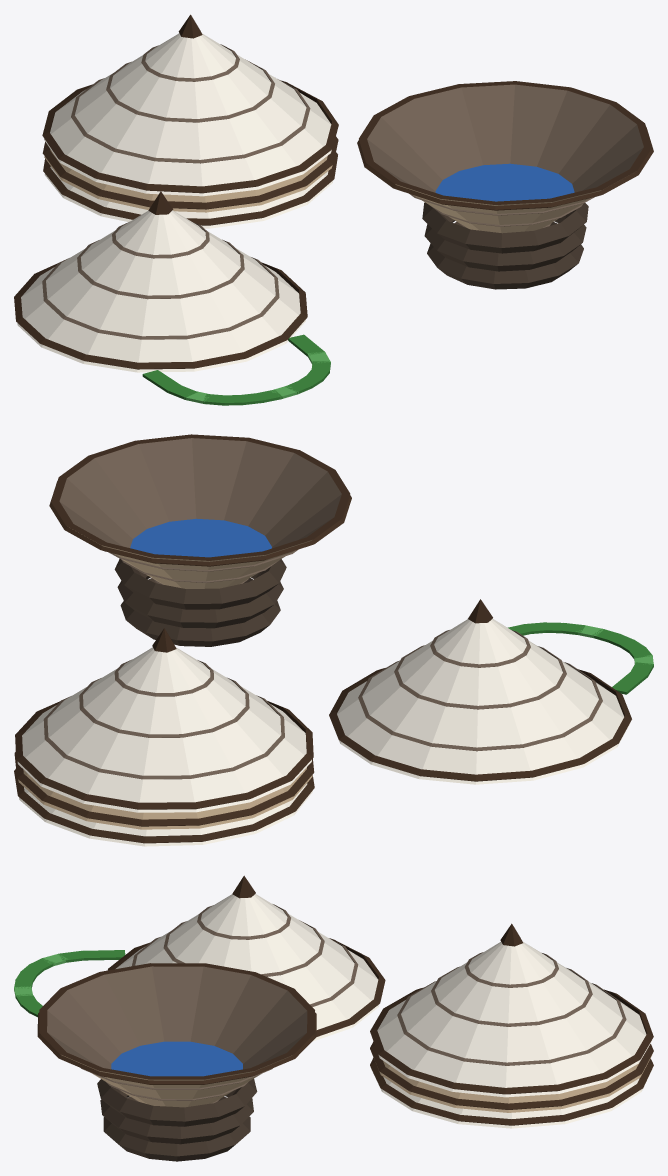
The model's file is conical_hats.glb.
3 views of the same model, one above another, from view 1: azimuth 30°, elevation 25°; view 2: azimuth 150°, elevation 25°; view 3: azimuth 270°, elevation 25° (orthographic). The views are drawn at different scales.
Visible parts, largest first — view 1: stack-warm-white, hat_front-warm-white, scoop_hat-muddy-brown-light, coil-muddy-brown, stack-dark-wood, scoop_hat-dark-wood, rainwater-sky-blue, hat_front-dark-wood, stack-muddy-brown-light, hat_front-muddy-brown-light, scoop_hat-bright-boat-colours, strap-palm-green (+2 smaller); view 2: stack-warm-white, hat_front-warm-white, scoop_hat-muddy-brown-light, coil-muddy-brown, stack-dark-wood, scoop_hat-dark-wood, rainwater-sky-blue, hat_front-dark-wood, hat_front-muddy-brown-light, stack-muddy-brown-light, stack-bright-boat-colours, scoop_hat-bright-boat-colours (+1 smaller); view 3: stack-warm-white, scoop_hat-muddy-brown-light, hat_front-warm-white, coil-muddy-brown, stack-dark-wood, scoop_hat-dark-wood, rainwater-sky-blue, stack-muddy-brown-light, stack-bright-boat-colours, scoop_hat-bright-boat-colours, strap-palm-green, hat_front-muddy-brown-light (+1 smaller).
Part boxes in pixels (x1,y1,x2,y2): stack-warm-white: (44, 33, 333, 228); hat_front-warm-white: (17, 210, 305, 372); scoop_hat-muddy-brown-light: (367, 84, 643, 228); coil-muddy-brown: (422, 202, 588, 289); stack-dark-wood: (42, 14, 338, 225); scoop_hat-dark-wood: (357, 81, 653, 210); rainwater-sky-blue: (435, 163, 574, 201); hat_front-dark-wood: (14, 191, 307, 369); stack-muddy-brown-light: (71, 44, 310, 163); hat_front-muddy-brown-light: (42, 222, 279, 339); scoop_hat-bright-boat-colours: (395, 175, 628, 233); strap-palm-green: (142, 334, 330, 405); stack-warm-white: (17, 647, 312, 846); hat_front-warm-white: (337, 618, 630, 784); scoop_hat-muddy-brown-light: (59, 438, 341, 584); coil-muddy-brown: (114, 559, 286, 646); stack-dark-wood: (14, 628, 314, 843); scoop_hat-dark-wood: (49, 434, 351, 566); rainwater-sky-blue: (130, 518, 271, 557); hat_front-dark-wood: (329, 599, 631, 781); hat_front-muddy-brown-light: (358, 630, 602, 751); stack-muddy-brown-light: (43, 659, 284, 779); stack-bright-boat-colours: (18, 767, 312, 829); scoop_hat-bright-boat-colours: (69, 527, 311, 588); stack-warm-white: (371, 942, 652, 1128); scoop_hat-muddy-brown-light: (47, 966, 307, 1103); hat_front-warm-white: (116, 894, 379, 1041); coil-muddy-brown: (97, 1078, 257, 1161); stack-dark-wood: (370, 923, 653, 1125); scoop_hat-dark-wood: (37, 963, 316, 1084); rainwater-sky-blue: (111, 1041, 242, 1076); stack-muddy-brown-light: (397, 952, 626, 1065); stack-bright-boat-colours: (372, 1054, 652, 1112); scoop_hat-bright-boat-colours: (61, 1055, 292, 1107); strap-palm-green: (14, 950, 125, 1017); hat_front-muddy-brown-light: (132, 904, 358, 1006).
Size of the model in its own units: 0.9296 by 0.2404 by 0.9561.
